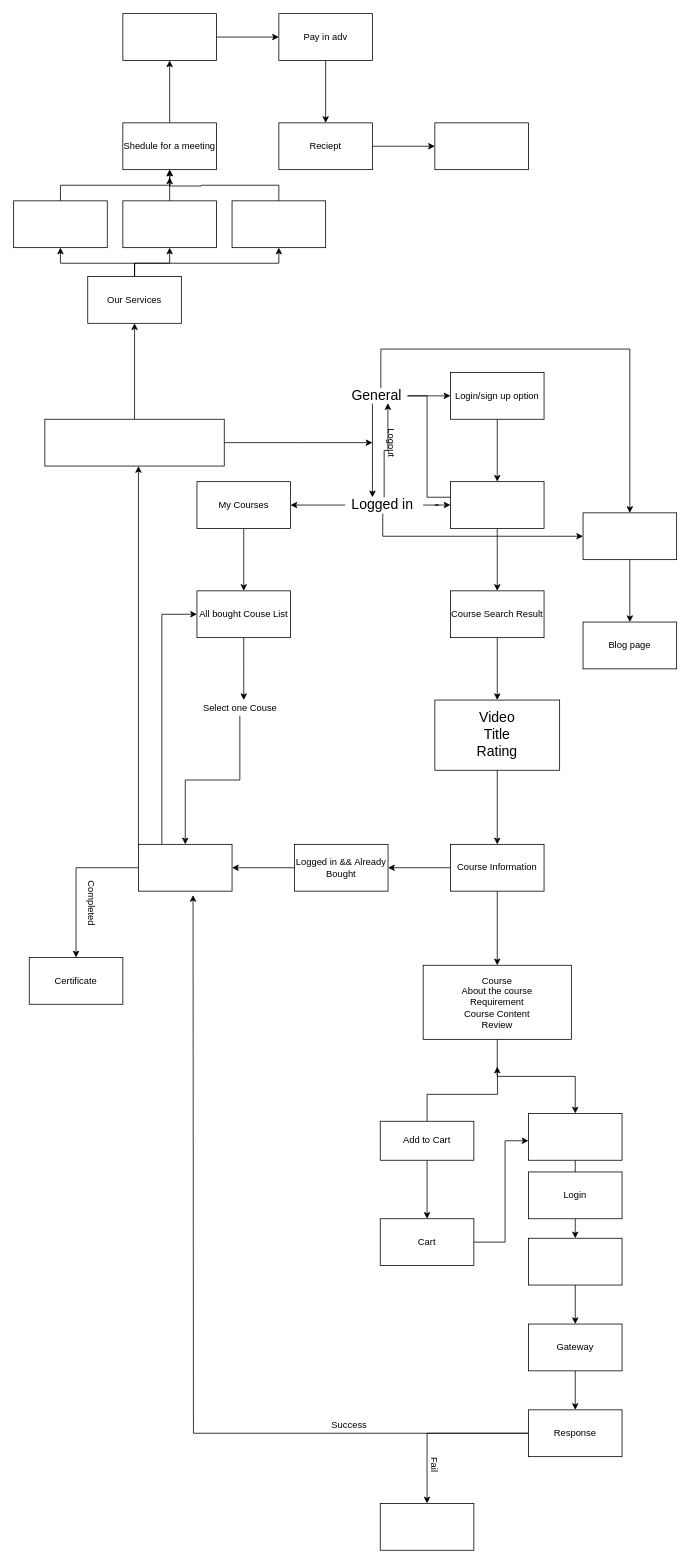
Some shapes in this 690 by 1564 pixel diagram are drawn without their labels. Each missing label, with the centre of its shape:
"Blogs" goes at point (629, 536).
"Buy" goes at point (575, 1136).
"Confirmed" goes at point (169, 36).
"Course Play page" goes at point (185, 867).
"Done" goes at point (481, 146).
"Fail page" goes at point (426, 1526).
"Landing Page" goes at point (134, 442).
"Payment Details" goes at point (575, 1261).
"Search Courses" goes at point (497, 504).
